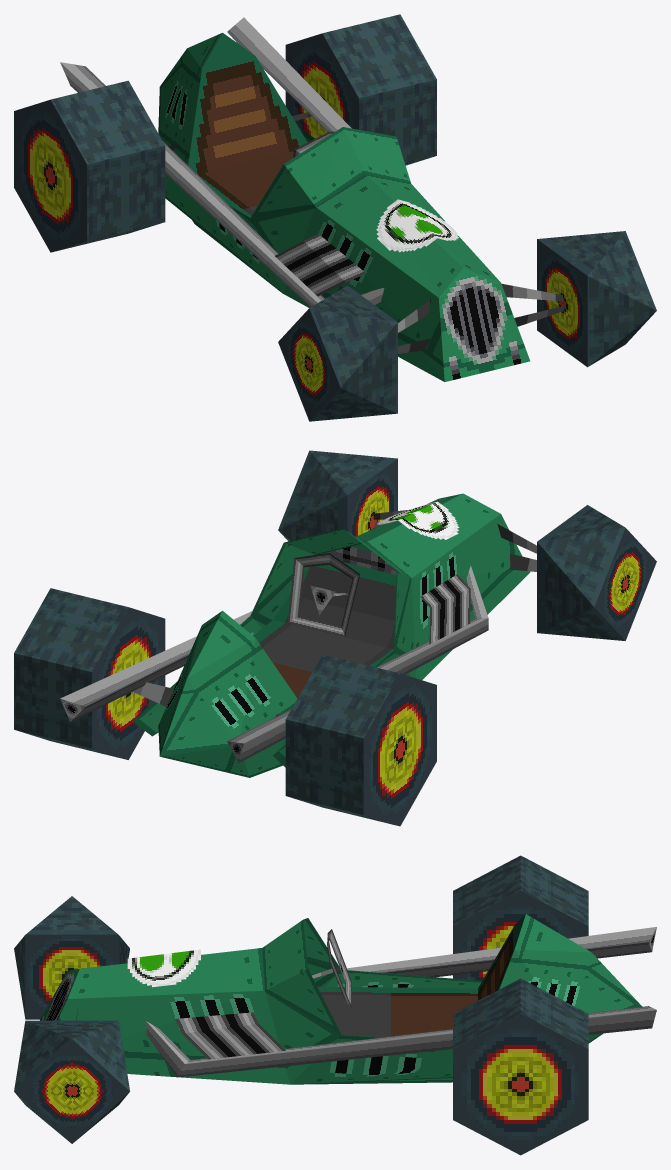
File: kart_YS_c.obj
3 views of the same model, one above another, from view 1: azimuth 30°, elevation 25°; view 2: azimuth 150°, elevation 25°; view 3: azimuth 270°, elevation 25° (orthographic). The views are drawn at different scales.
Parts seen in each view (by area): view 1: polygon0, polygon2, polygon1; view 2: polygon2, polygon0, polygon1; view 3: polygon0, polygon2, polygon1.
Part boxes in pixels (left/top/right/bottom): polygon0: left=60, top=17, right=564, bottom=381; polygon2: left=14, top=14, right=656, bottom=421; polygon1: left=376, top=199, right=458, bottom=252; polygon2: left=14, top=450, right=656, bottom=826; polygon0: left=60, top=493, right=536, bottom=777; polygon1: left=377, top=501, right=459, bottom=539; polygon0: left=40, top=914, right=656, bottom=1084; polygon2: left=14, top=855, right=588, bottom=1155; polygon1: left=127, top=949, right=200, bottom=987.
Size of the model in its own units: 1.12 by 0.5371 by 1.93.
Materials: 3 (3 with a texture image).
